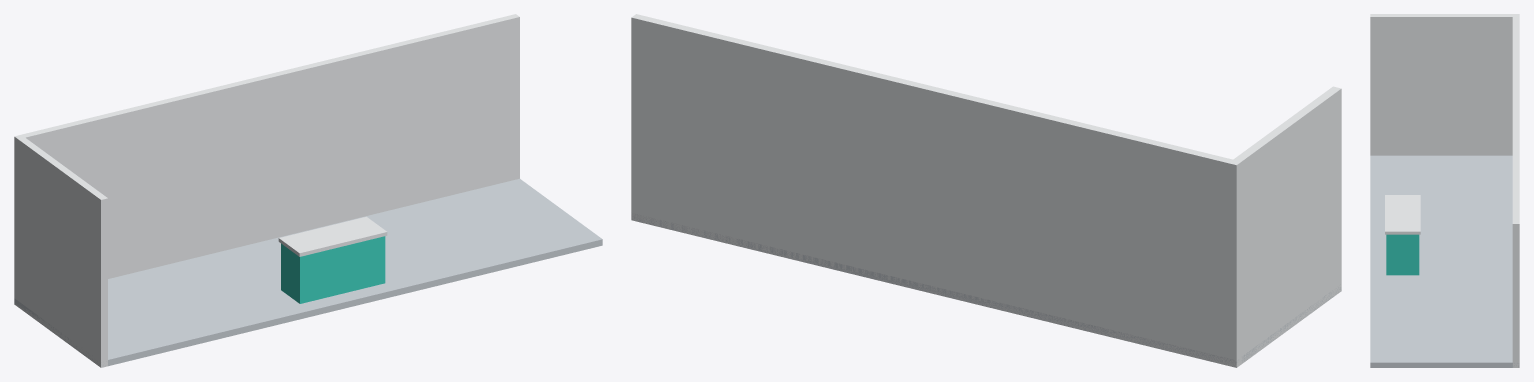
3 renders of one model, left to right at view 1: azimuth 30°, elevation 25°; view 2: azimuth 150°, elevation 25°; view 3: azimuth 270°, elevation 25°, orthographic. The views are drawn at different scales.
Parts seen in each view (by area): view 1: Exhibition Booth Concept; view 2: Exhibition Booth Concept; view 3: Exhibition Booth Concept.
Part boxes in pixels (left/top/right/bottom): Exhibition Booth Concept: left=14, top=14, right=602, bottom=367; Exhibition Booth Concept: left=631, top=14, right=1341, bottom=367; Exhibition Booth Concept: left=1370, top=14, right=1519, bottom=367.
Bounding box in the file's own units: 10 × 3.2 × 3.
